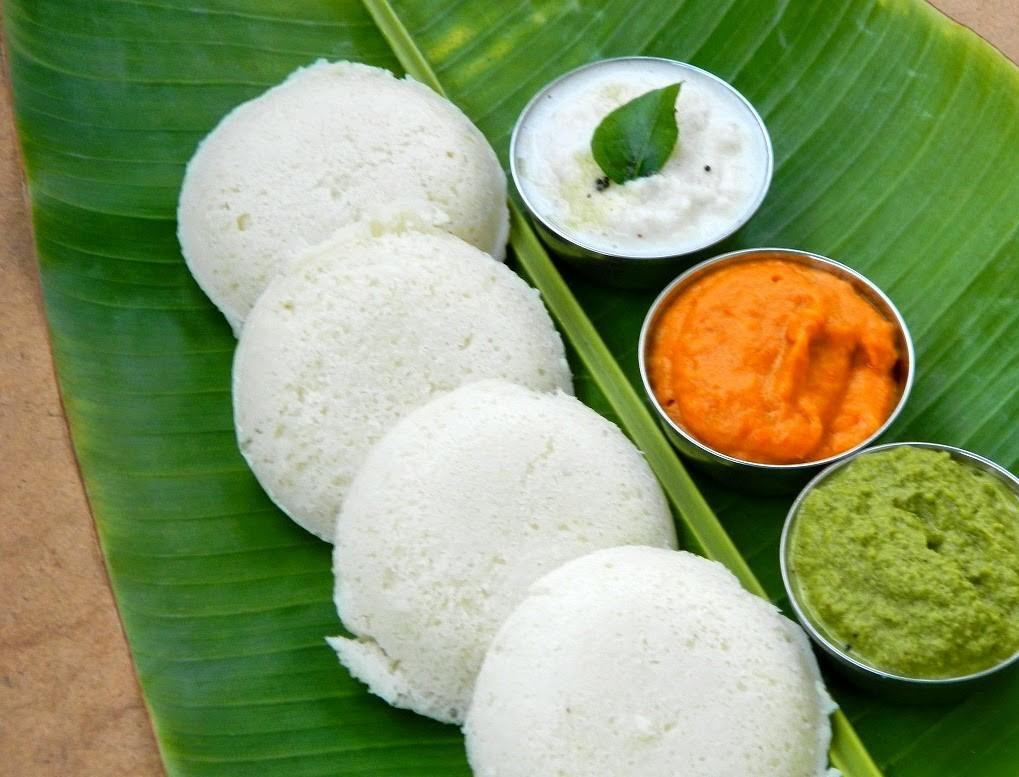CoconutChutney: (519, 57, 772, 258)
GreenChutney: (788, 445, 1019, 674)
Idli: (331, 379, 678, 719), (235, 233, 567, 545), (175, 62, 514, 341), (463, 547, 834, 777)
